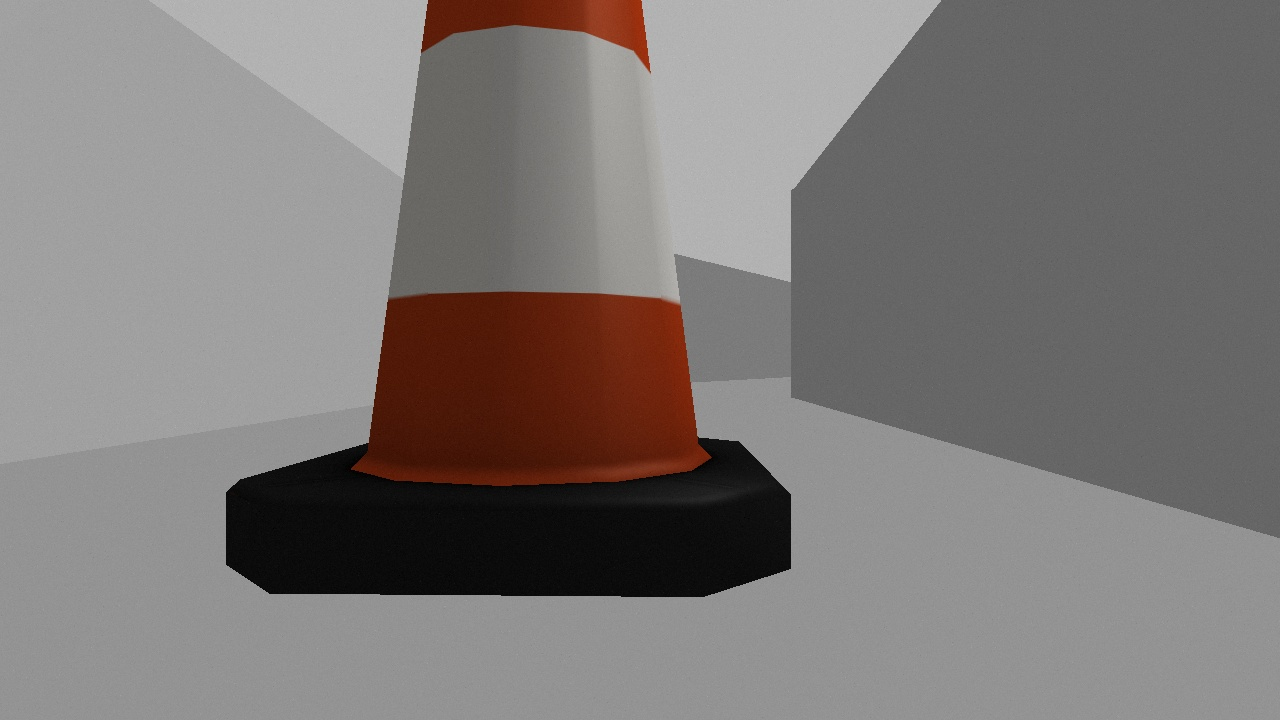barricade: (186, 1, 848, 618)
